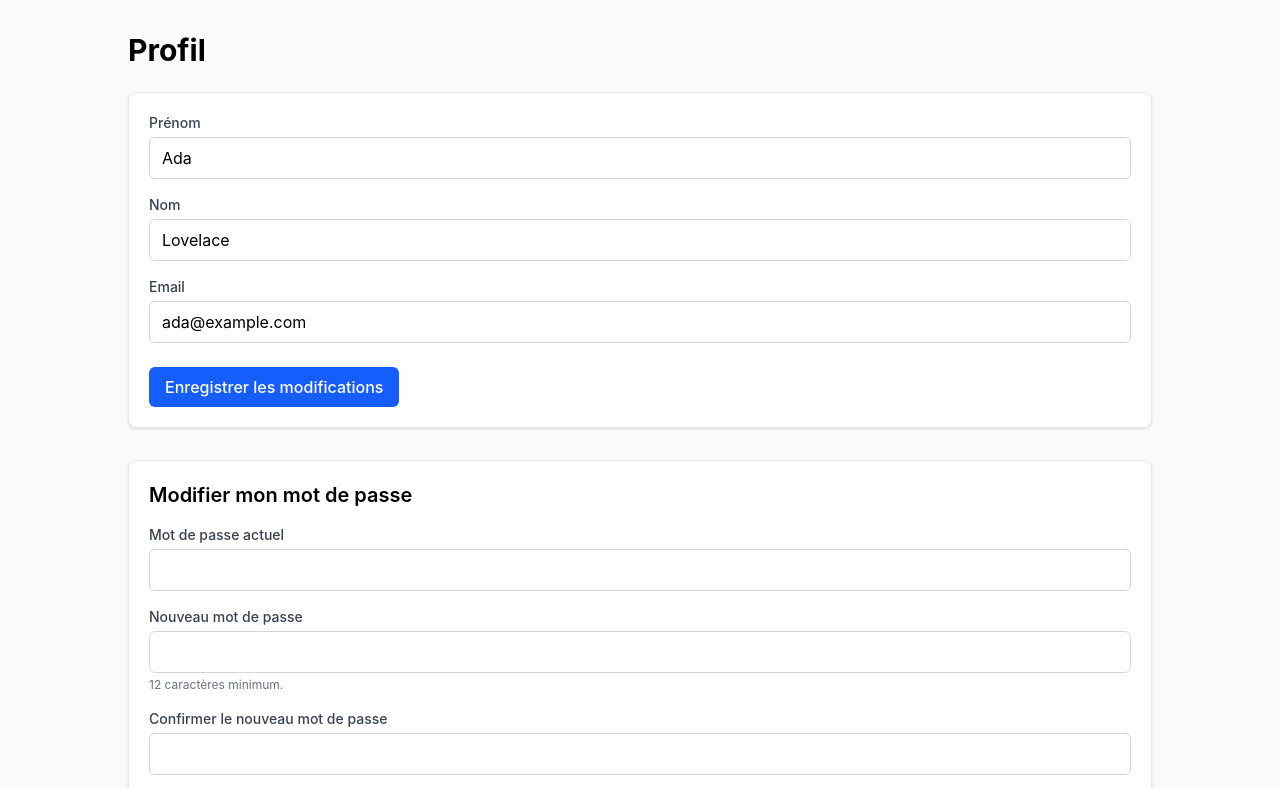
Test: ProfilePage › updates the profile and synchronizes the auth cache
Check: the heading "Profil" is shown, box left=128, top=32, right=206, bottom=68
Replace the text in the field labelled "Prénom" with "  Grace  " at [640, 158], box left=149, top=137, right=1131, bottom=179
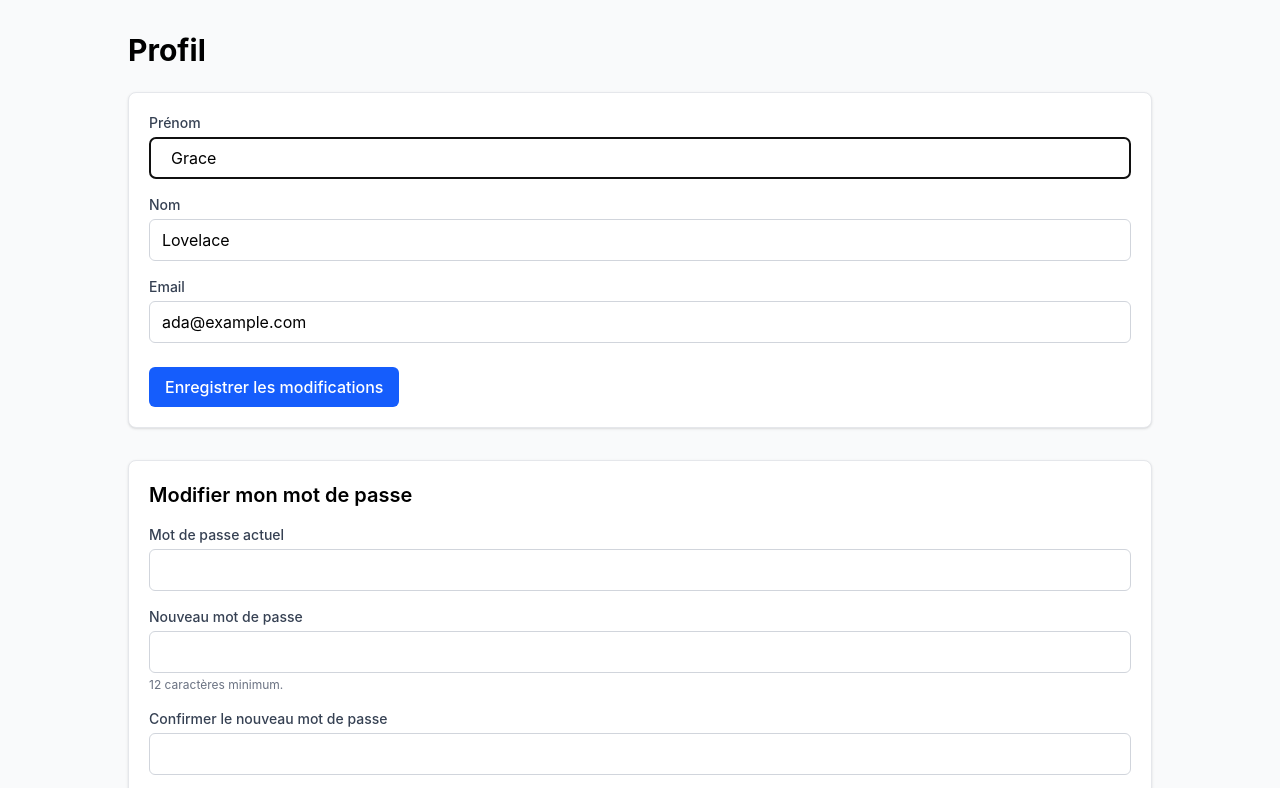
Replace the text in the field labelled "Nom" with " Hopper " at [640, 240], box left=149, top=219, right=1131, bottom=261
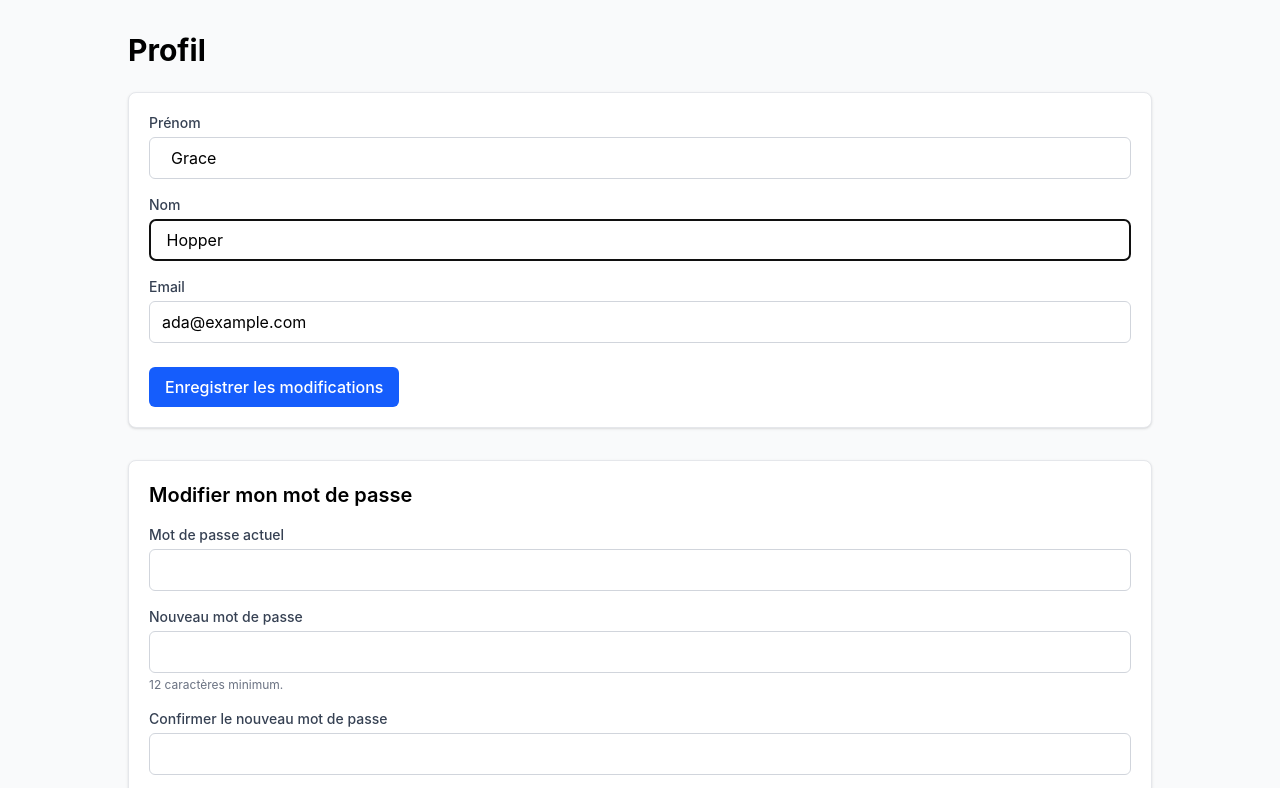
Replace the text in the field labelled "Email" with " grace@example.com " at [640, 322], box left=149, top=301, right=1131, bottom=343
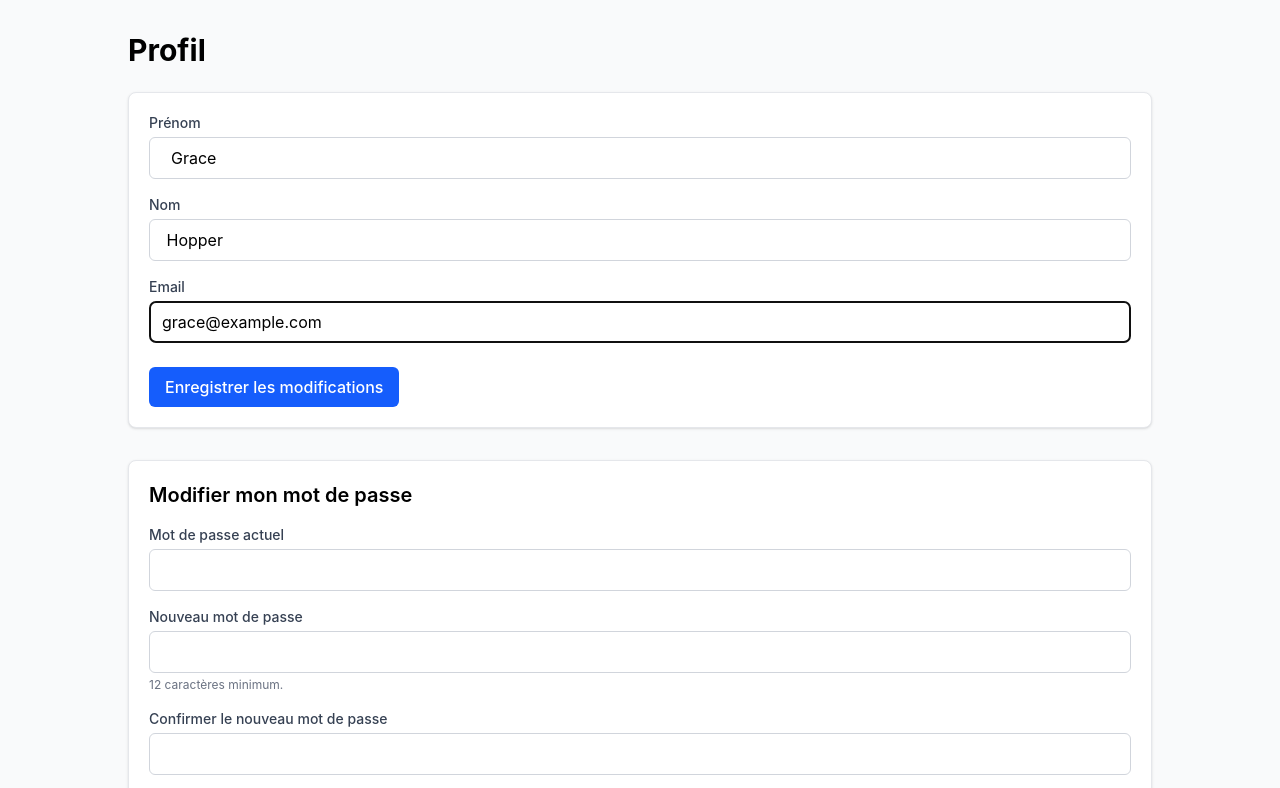
Click the button "Enregistrer les modifications".
click(274, 387)  # box left=149, top=367, right=399, bottom=407
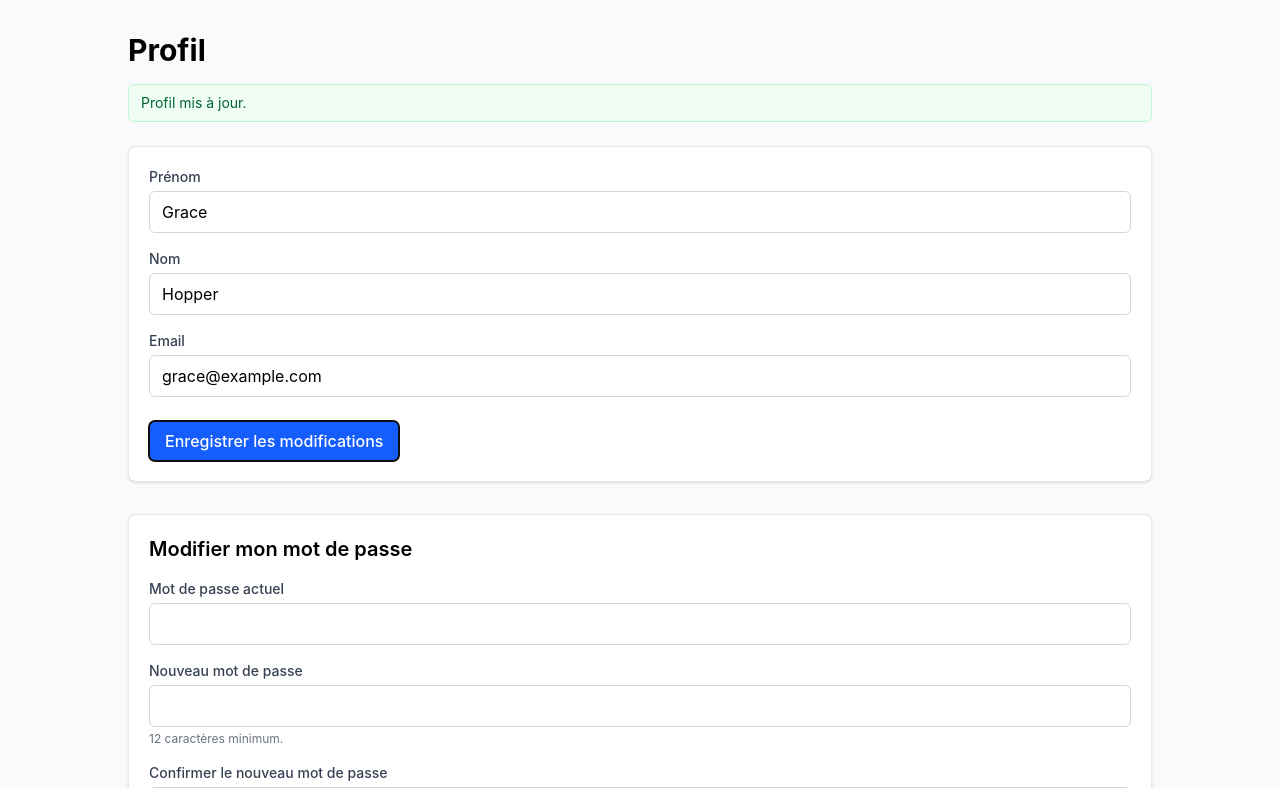
Check: the text "Profil mis à jour." is shown, box left=128, top=84, right=1152, bottom=122
